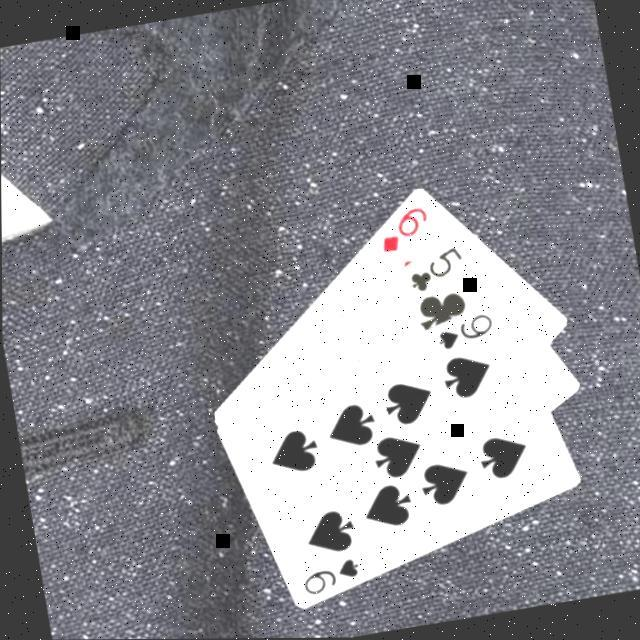5C: (400, 240, 467, 295)
6D: (371, 200, 434, 254)
9S: (294, 552, 362, 598), (428, 308, 496, 352)
